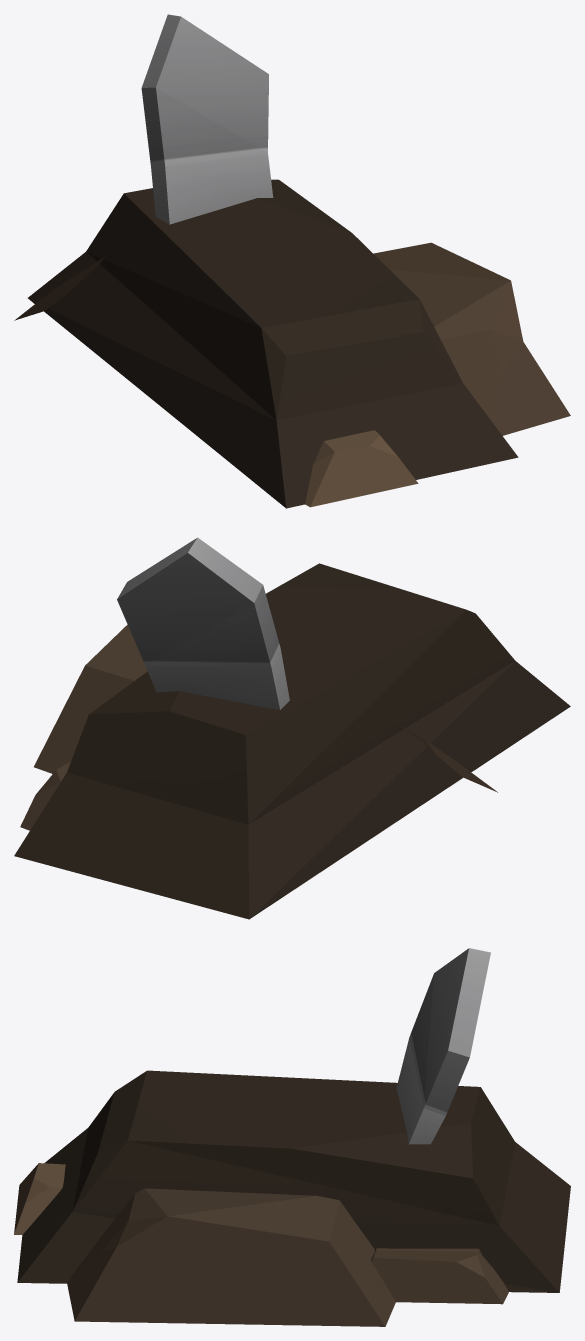
The model's file is ea_grave_sand_mini_02b_pre__1__lev1.glb.
The picture shows the model from 3 angles, top to bottom: view 1: azimuth 30°, elevation 25°; view 2: azimuth 150°, elevation 25°; view 3: azimuth 270°, elevation 25°; orthographic projection. The views are drawn at different scales.
Parts seen in each view (by area): view 1: ea_grave_sand_mini_02b_pre__1__lev1; view 2: ea_grave_sand_mini_02b_pre__1__lev1; view 3: ea_grave_sand_mini_02b_pre__1__lev1.
Part boxes in pixels (left/top/right/bottom): ea_grave_sand_mini_02b_pre__1__lev1: left=14, top=14, right=570, bottom=508; ea_grave_sand_mini_02b_pre__1__lev1: left=14, top=537, right=570, bottom=919; ea_grave_sand_mini_02b_pre__1__lev1: left=14, top=948, right=570, bottom=1326.
Bounding box in the file's own units: 1.25 × 0.9973 × 1.76.
Materials: 1 (1 with a texture image).
